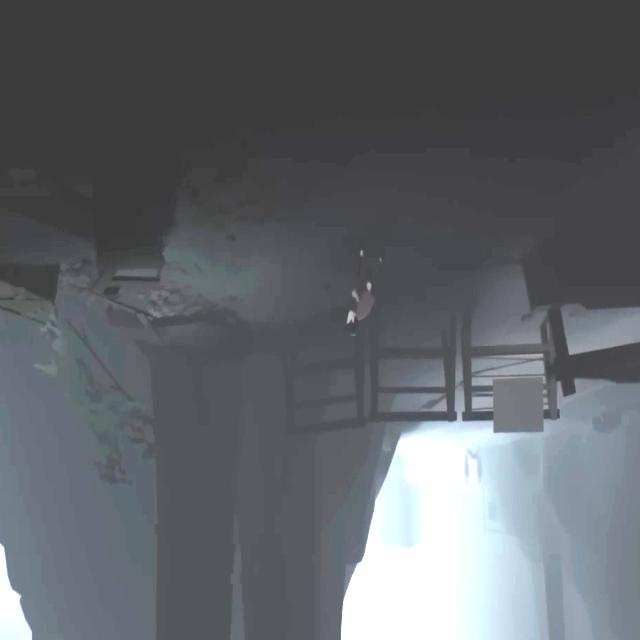boy: (346, 246, 383, 336)
dog: (467, 448, 478, 460)
human: (464, 449, 470, 484), (477, 447, 482, 485)
